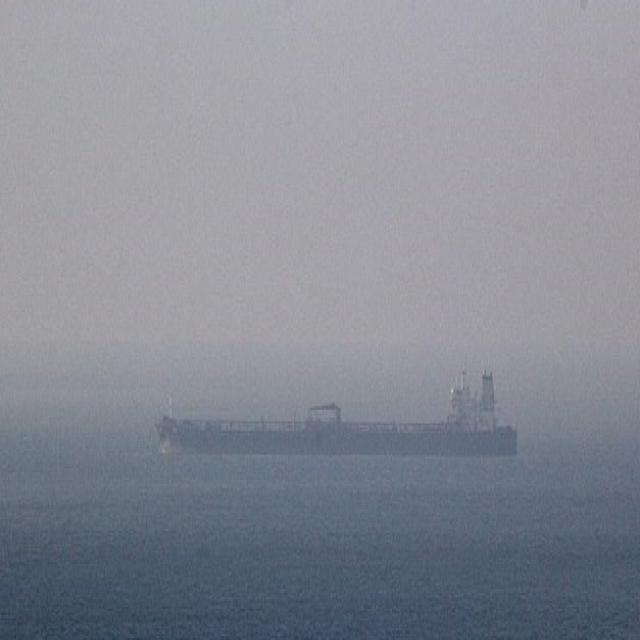cargoship: (152, 354, 520, 456)
